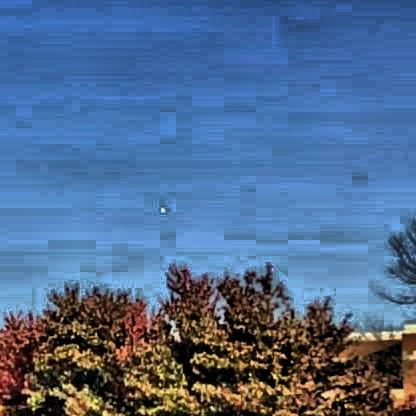golfball: (156, 203, 164, 211)
